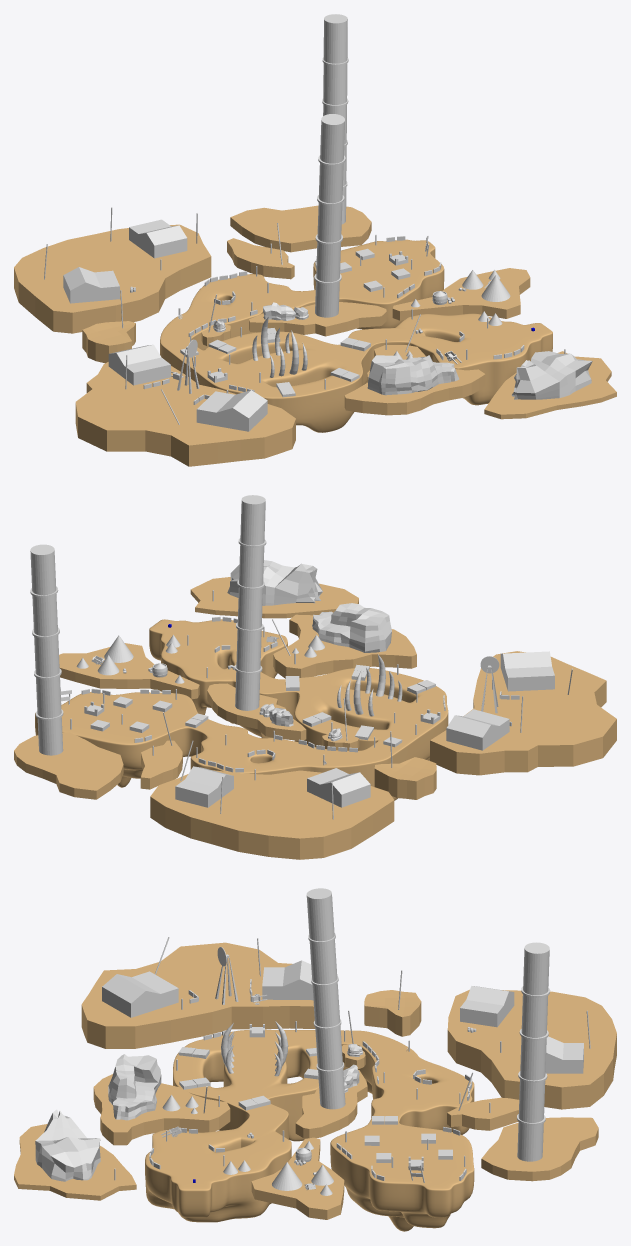
The model's file is Sala2.fbx.
The picture shows the model from 3 angles, top to bottom: view 1: azimuth 30°, elevation 25°; view 2: azimuth 150°, elevation 25°; view 3: azimuth 270°, elevation 25°; orthographic projection. The views are drawn at different scales.
Visible parts, largest first — view 1: Base 2-2, Cube.061, Cube.063, Tuberia.002, Cube.065, Cube.059, Cube.056, Cube.060, Cube.067, Tuberia.003, Cube.066, Cube.057 (+6 smaller); view 2: Base 2-2, Cube.063, Cube.061, Tuberia.002, Tuberia.003, Cube.065, Cube.059, Cube.056, Cube.066, Cube.060, Cube.067, Cube.057 (+9 smaller); view 3: Base 2-2, Cube.061, Cube.063, Tuberia.002, Tuberia.003, Cube.065, Cube.059, Cube.060, Cube.056, Cube.067, Cube.066, Casa.010 (+8 smaller).
Boxes of the visible parts, x1,y1,x2,y2 form: Base 2-2: [160, 239, 552, 432]; Cube.061: [75, 362, 295, 466]; Cube.063: [14, 224, 211, 333]; Tuberia.002: [314, 114, 345, 317]; Cube.065: [230, 205, 371, 252]; Cube.059: [344, 345, 485, 415]; Cube.056: [392, 268, 530, 320]; Cube.060: [484, 351, 616, 419]; Cube.067: [511, 351, 592, 399]; Tuberia.003: [322, 14, 348, 224]; Cube.066: [367, 355, 459, 395]; Cube.057: [249, 302, 386, 336]; Base 2-2: [35, 619, 448, 800]; Cube.063: [150, 770, 394, 859]; Cube.061: [430, 651, 616, 775]; Tuberia.002: [234, 495, 266, 710]; Tuberia.003: [30, 544, 63, 755]; Cube.065: [14, 732, 123, 799]; Cube.059: [273, 614, 416, 678]; Cube.056: [59, 643, 199, 699]; Cube.066: [312, 603, 391, 652]; Cube.060: [190, 577, 358, 618]; Cube.067: [227, 560, 322, 605]; Cube.057: [207, 683, 306, 740]; Base 2-2: [145, 1029, 474, 1231]; Cube.061: [81, 942, 315, 1048]; Cube.063: [447, 989, 616, 1109]; Tuberia.002: [306, 888, 345, 1109]; Tuberia.003: [517, 942, 550, 1161]; Cube.065: [481, 1117, 598, 1181]; Cube.059: [93, 1074, 230, 1145]; Cube.060: [14, 1124, 136, 1200]; Cube.056: [251, 1137, 344, 1219]; Cube.067: [35, 1109, 100, 1181]; Cube.066: [108, 1054, 161, 1120]; Casa.010: [102, 971, 178, 1017].
Size of the model in its own units: 43420 by 43872 by 23444.
